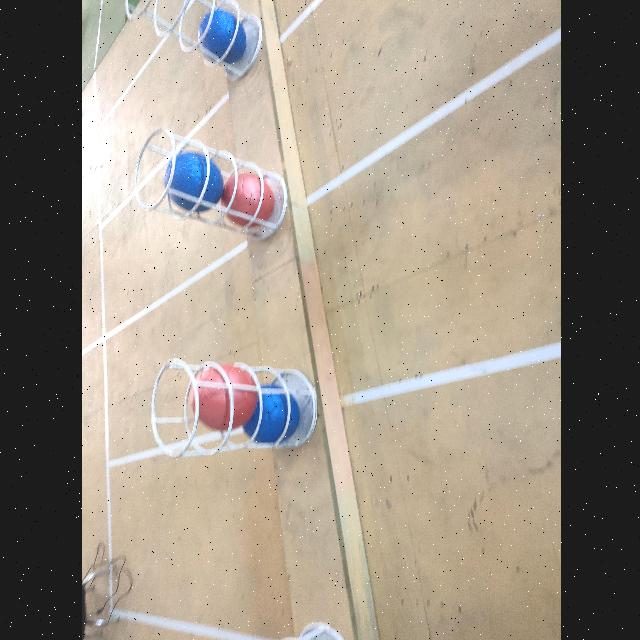B: (161, 150, 221, 212), (196, 8, 246, 62), (256, 386, 298, 446)
R: (190, 365, 254, 431), (223, 174, 273, 228)
